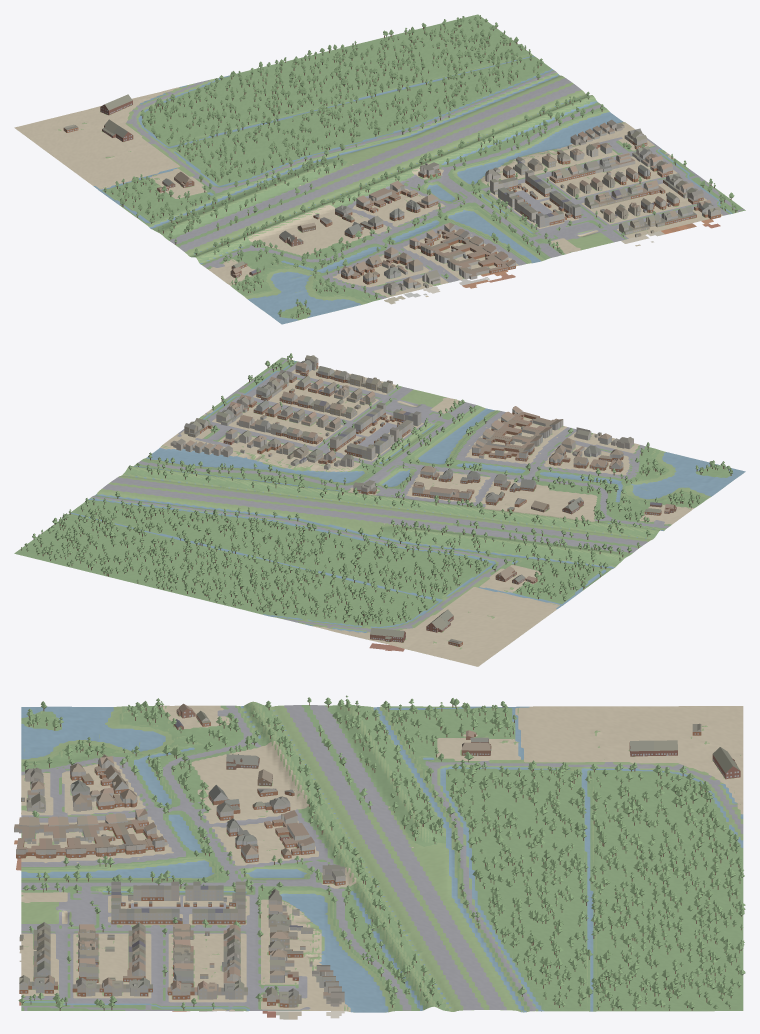
The model's file is bosven-veghel_x333_y810.glb.
3 views of the same model, one above another, from view 1: azimuth 30°, elevation 25°; view 2: azimuth 150°, elevation 25°; view 3: azimuth 270°, elevation 25° (orthographic). The views are drawn at different scales.
Visible parts, largest first — view 1: class:green, class:tree, class:sand, class:road, class:grass, class:wall, class:roof, class:water, class:trunk, class:trim; view 2: class:green, class:tree, class:sand, class:road, class:grass, class:wall, class:water, class:roof, class:trunk, class:trim; view 3: class:green, class:sand, class:tree, class:road, class:grass, class:roof, class:water, class:wall, class:trunk, class:trim.
Boxes of the visible parts, x1=… form: class:green: x1=102, y1=14, x2=745, y2=320; class:tree: x1=103, y1=15, x2=738, y2=317; class:sand: x1=14, y1=87, x2=723, y2=297; class:road: x1=126, y1=71, x2=744, y2=298; class:grass: x1=58, y1=53, x2=738, y2=318; class:wall: x1=63, y1=100, x2=720, y2=304; class:roof: x1=64, y1=94, x2=720, y2=289; class:water: x1=93, y1=55, x2=732, y2=324; class:trunk: x1=105, y1=17, x2=736, y2=318; class:trim: x1=64, y1=103, x2=717, y2=294; class:green: x1=14, y1=357, x2=731, y2=626; class:tree: x1=21, y1=353, x2=732, y2=623; class:sand: x1=160, y1=366, x2=693, y2=666; class:road: x1=91, y1=358, x2=669, y2=631; class:grass: x1=68, y1=368, x2=730, y2=649; class:wall: x1=170, y1=358, x2=676, y2=651; class:water: x1=70, y1=361, x2=745, y2=632; class:roof: x1=171, y1=355, x2=675, y2=643; class:trunk: x1=21, y1=358, x2=731, y2=625; class:trim: x1=172, y1=358, x2=676, y2=645; class:green: x1=21, y1=702, x2=743, y2=1011; class:sand: x1=21, y1=705, x2=743, y2=1011; class:tree: x1=18, y1=695, x2=745, y2=1008; class:road: x1=21, y1=705, x2=743, y2=1011; class:grass: x1=21, y1=701, x2=743, y2=1012; class:roof: x1=14, y1=703, x2=740, y2=1003; class:water: x1=21, y1=706, x2=743, y2=1012; class:wall: x1=14, y1=708, x2=740, y2=1019; class:trunk: x1=22, y1=702, x2=741, y2=1010; class:trim: x1=15, y1=711, x2=738, y2=1006.
Bounding box in the file's own units: 505 × 21.1 × 507.
